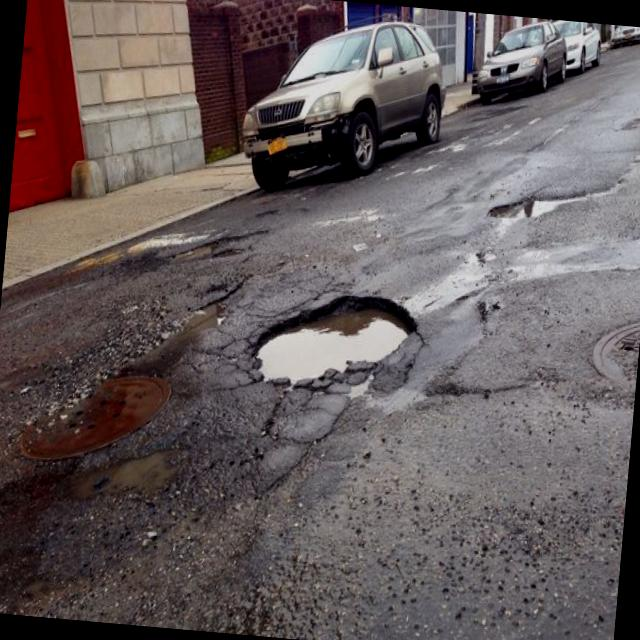bad-road: (249, 282, 420, 394), (168, 218, 269, 268), (488, 190, 594, 226)
